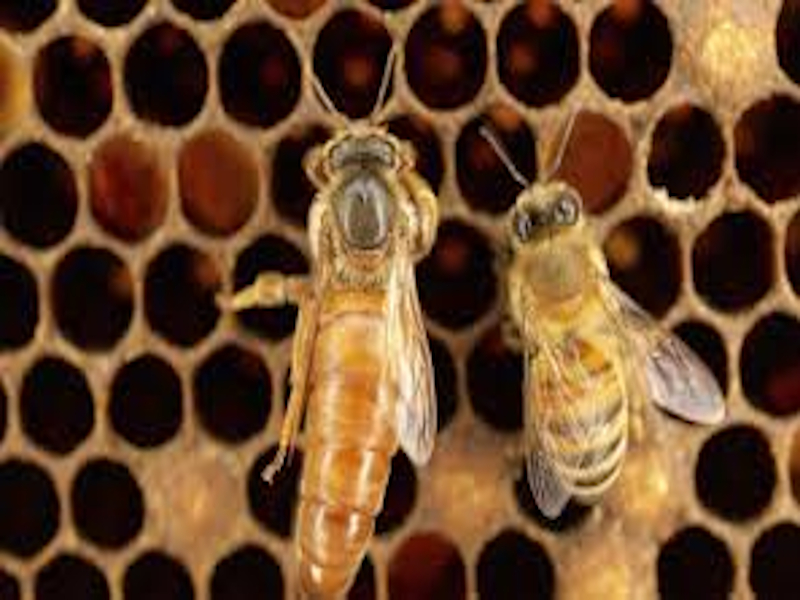abeja: (208, 70, 441, 600), (480, 122, 743, 542)
